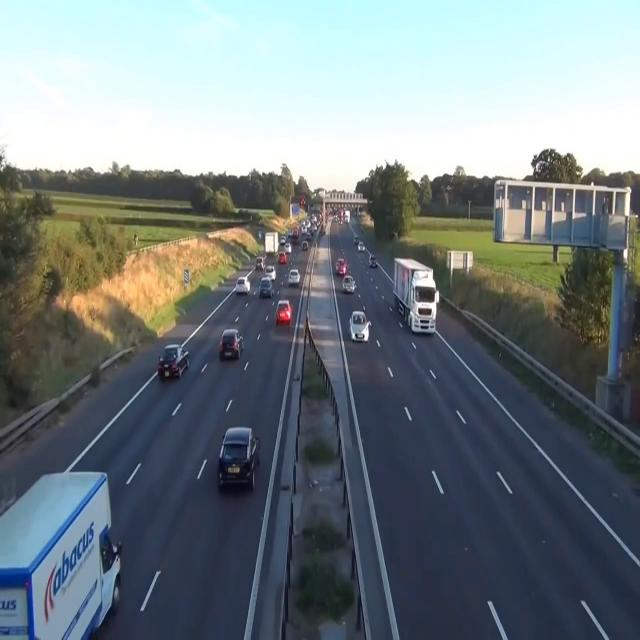belum terisi: (0, 425, 134, 640), (388, 250, 443, 347), (220, 413, 262, 501), (150, 336, 198, 388), (217, 324, 245, 366), (347, 306, 374, 349), (272, 292, 292, 335), (234, 271, 254, 296), (259, 276, 273, 299)
